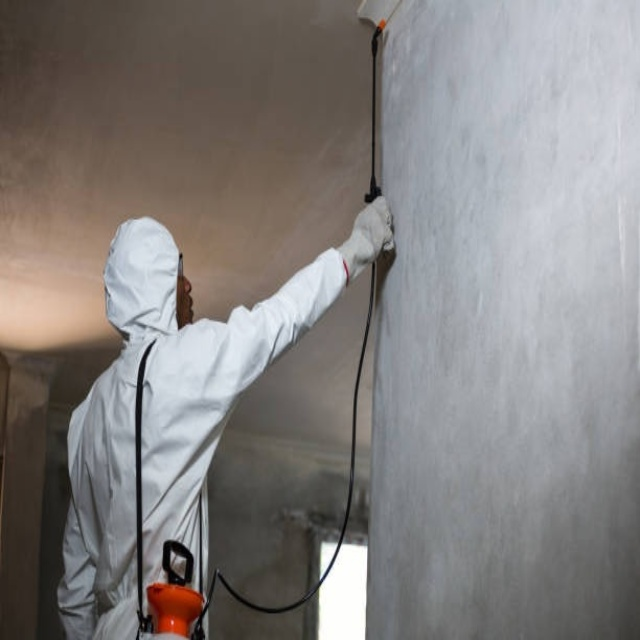Guantes: (338, 195, 394, 278)
Sin_mascara: (181, 287, 196, 326)
